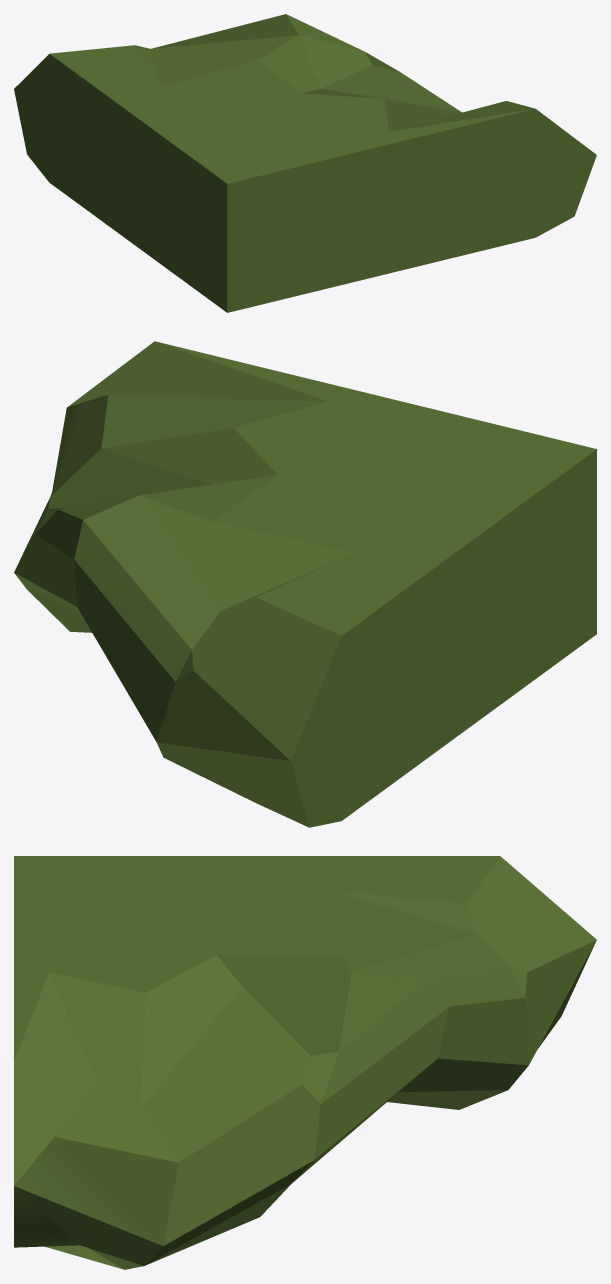
File: LightVegetationEdgeMediumExternalCurve1.fbx
3 renders of one model, top to bottom at view 1: azimuth 30°, elevation 25°; view 2: azimuth 150°, elevation 25°; view 3: azimuth 270°, elevation 25°, orthographic. The views are drawn at different scales.
Parts seen in each view (by area): view 1: LightVegetationEdgeEdgeMediumExternalCurve1; view 2: LightVegetationEdgeEdgeMediumExternalCurve1; view 3: LightVegetationEdgeEdgeMediumExternalCurve1.
Boxes of the visible parts, x1,y1,x2,y2 form: LightVegetationEdgeEdgeMediumExternalCurve1: [14, 14, 596, 312]; LightVegetationEdgeEdgeMediumExternalCurve1: [14, 341, 596, 827]; LightVegetationEdgeEdgeMediumExternalCurve1: [14, 856, 596, 1269].
Bounding box in the file's own units: 599 × 258 × 600.
